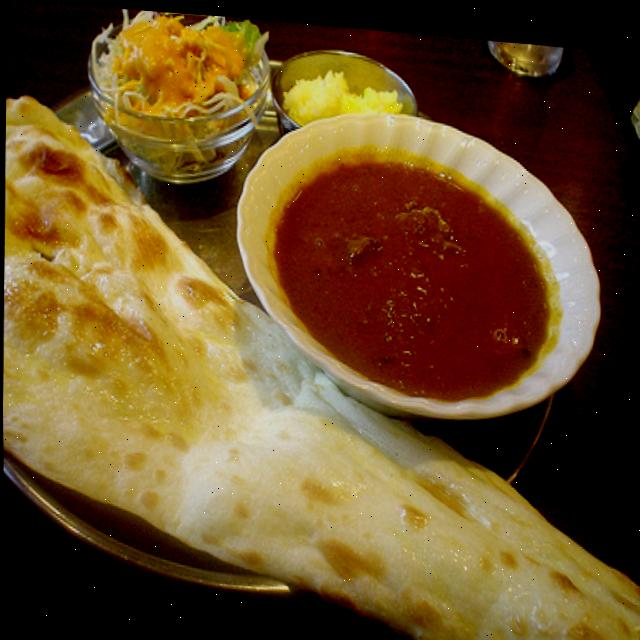牛肉菜式: (224, 95, 605, 428)
蔬菜料理: (71, 4, 278, 193)
